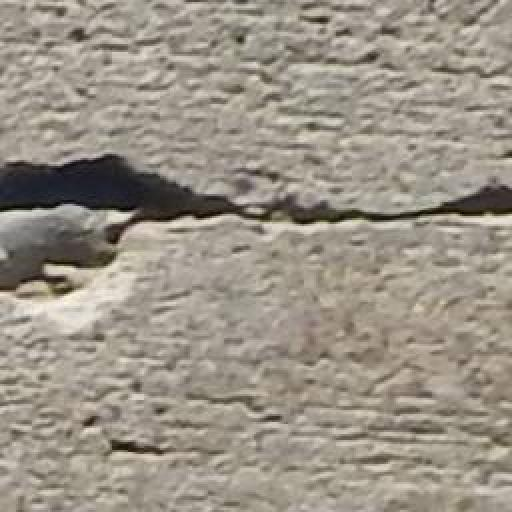spalling: (5, 135, 507, 336)
